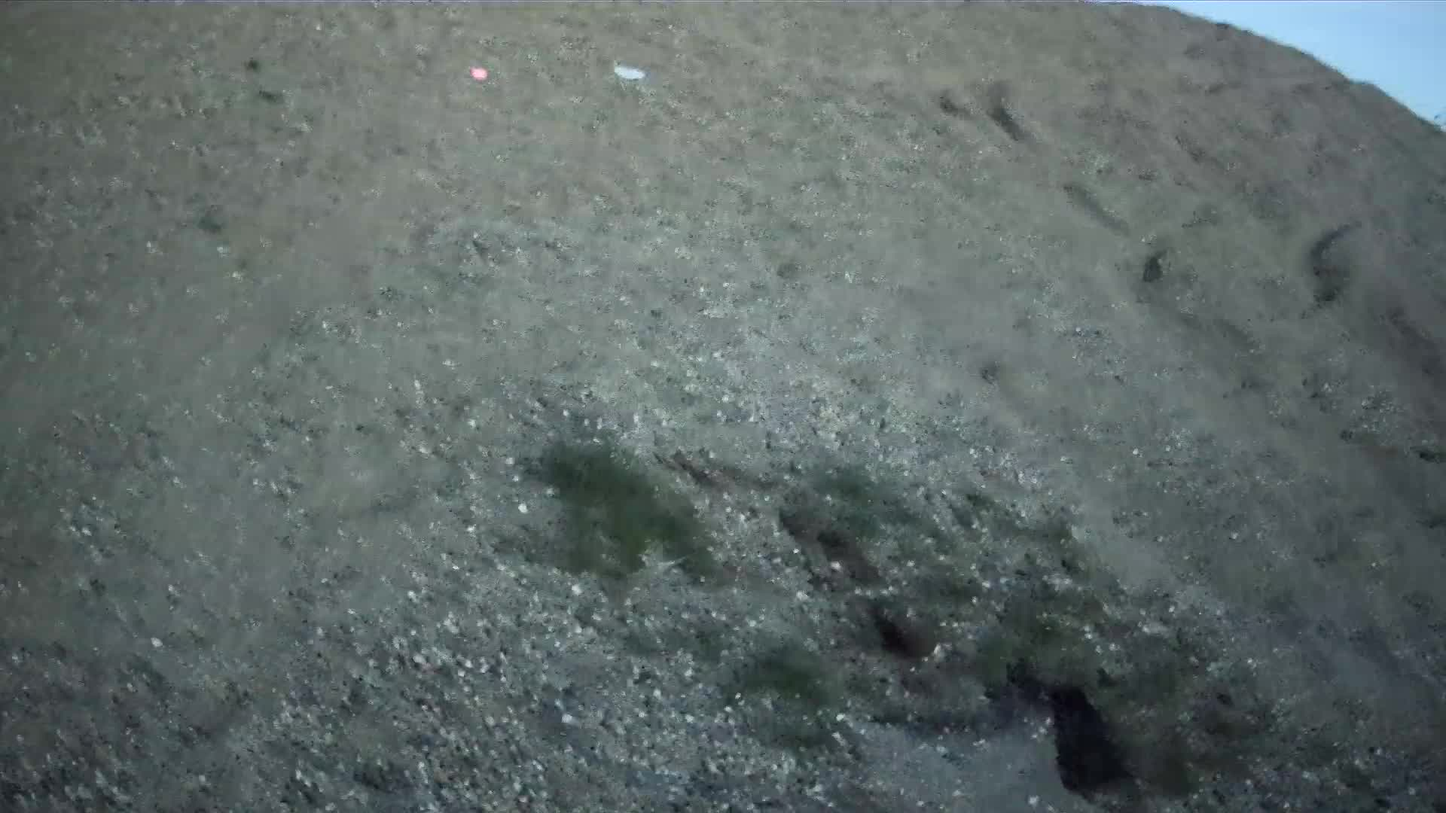Target: (612, 64, 649, 81)
